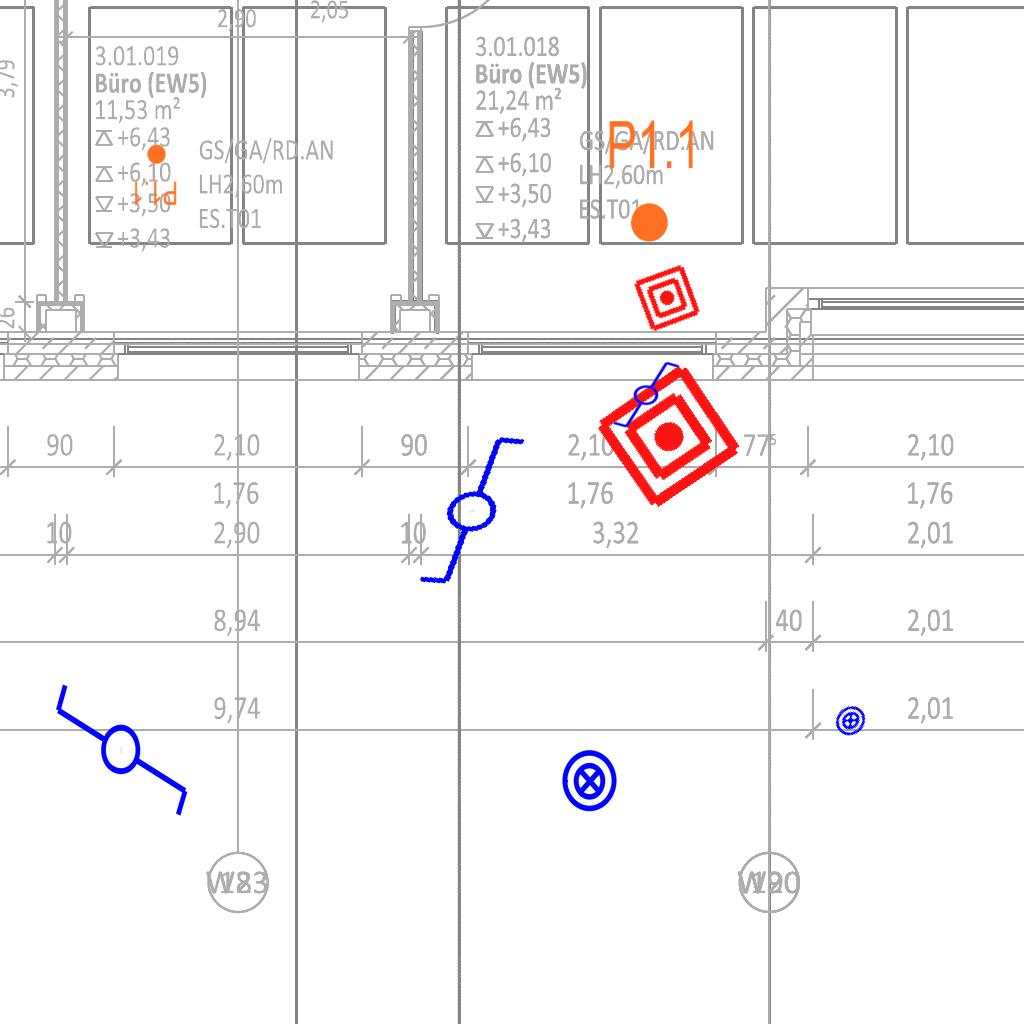Downlight_LED_Einbauleuchten_Flur: (606, 117, 699, 245), (132, 143, 178, 207)
NAM-Nichtautomatischer_Melder: (590, 358, 747, 515), (631, 262, 703, 334)
Taster_beleuchtet: (557, 748, 623, 814), (827, 697, 874, 744)
Wechselschalter: (371, 424, 556, 598), (51, 663, 195, 820), (603, 358, 681, 430)
